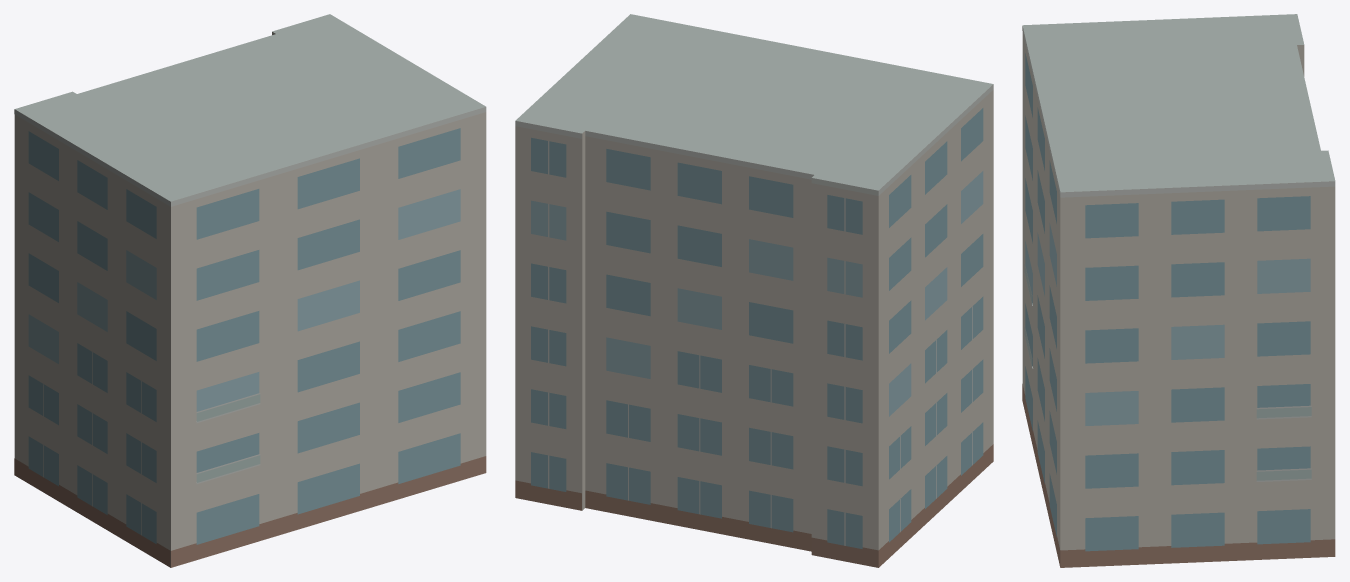
Rendered from survey-upis-32757692.glb.
3 renders of one model, left to right at view 1: azimuth 30°, elevation 25°; view 2: azimuth 150°, elevation 25°; view 3: azimuth 270°, elevation 25°, orthographic. The views are drawn at different scales.
Visible parts, largest first — view 1: survey-upis-32757692.tmp; view 2: survey-upis-32757692.tmp; view 3: survey-upis-32757692.tmp.
Part boxes in pixels (<box>): survey-upis-32757692.tmp: <box>14,14,486,567</box>; survey-upis-32757692.tmp: <box>515,14,993,567</box>; survey-upis-32757692.tmp: <box>1022,14,1335,567</box>.
Bounding box in the file's own units: 17.53 × 17.2 × 13.
